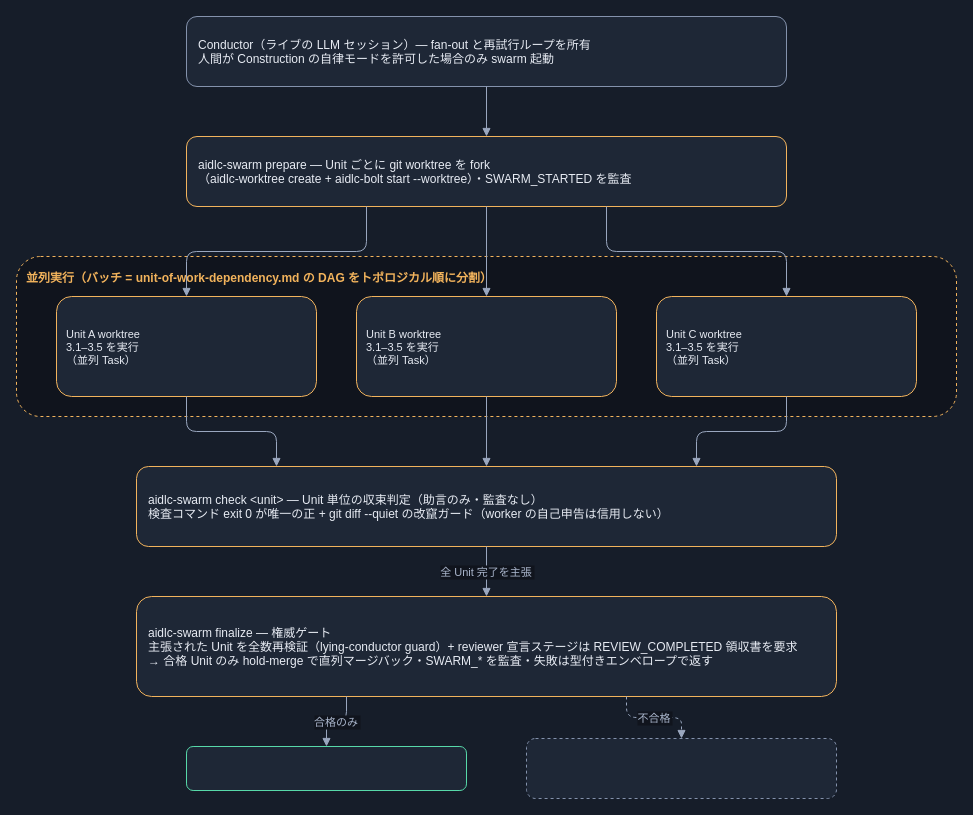
Some shapes in this 973 by 815 pixel diagram are drawn without their labels. Here are the shapes that lost their labels. From the top down, the centre of each, then its label:
the point at 326,768: main へ直列マージ完了
the point at 681,768: 失敗 Unit: BOLT_FAILED + halt-and-ask （worktree は保全・Retry / Skip / Abort）
